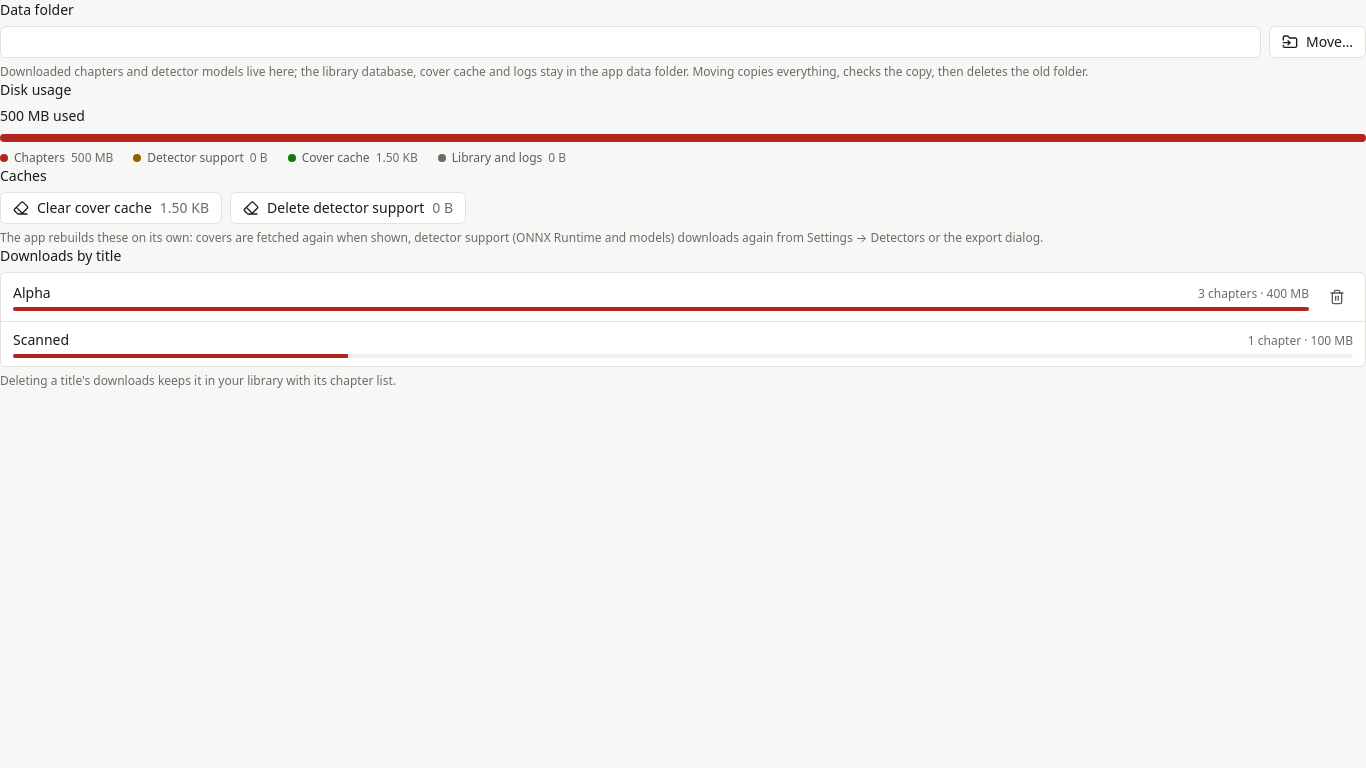
Test: storage panel › lists titles by size and deletes one's downloads after confirming
Later steps or results of the test are not shown.
Expected: the text "Alpha" is shown, 13,283 -> 51,303
Expected: the text "3 chapters · 400 MB" is shown, 1198,286 -> 1309,302
Click the button named "Delete the downloads of Alpha". click: [1337, 297]
box: 1321,281 -> 1353,313
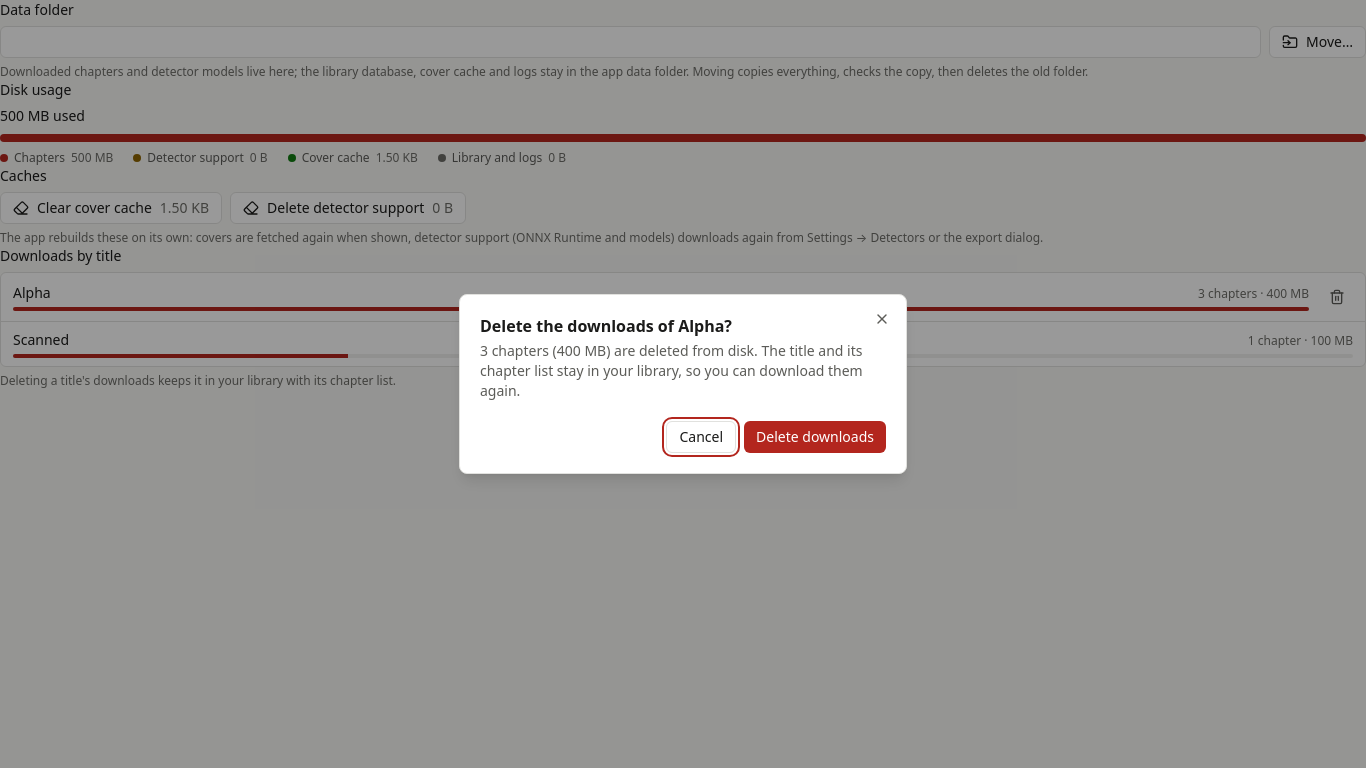
Now the heading "Delete the downloads of Alpha?" is shown, box 480,315 -> 732,337
